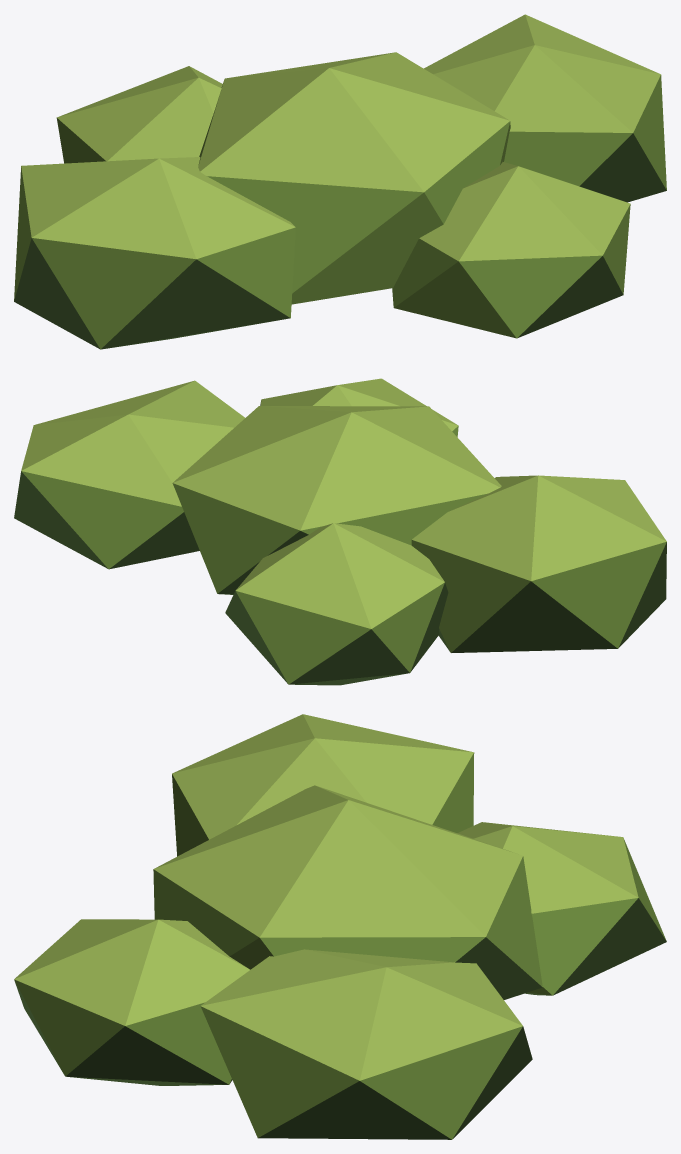
File: SM_Bush_C.fbx
3 renders of one model, top to bottom at view 1: azimuth 30°, elevation 25°; view 2: azimuth 150°, elevation 25°; view 3: azimuth 270°, elevation 25°, orthographic. The views are drawn at different scales.
Parts seen in each view (by area): view 1: SM_Bush_C; view 2: SM_Bush_C; view 3: SM_Bush_C.
Boxes of the visible parts, left/top/right/bottom form: SM_Bush_C: left=14, top=14, right=666, bottom=349; SM_Bush_C: left=14, top=378, right=666, bottom=685; SM_Bush_C: left=14, top=714, right=666, bottom=1139.
Bounding box in the file's own units: 2.29 × 0.7435 × 1.8.
